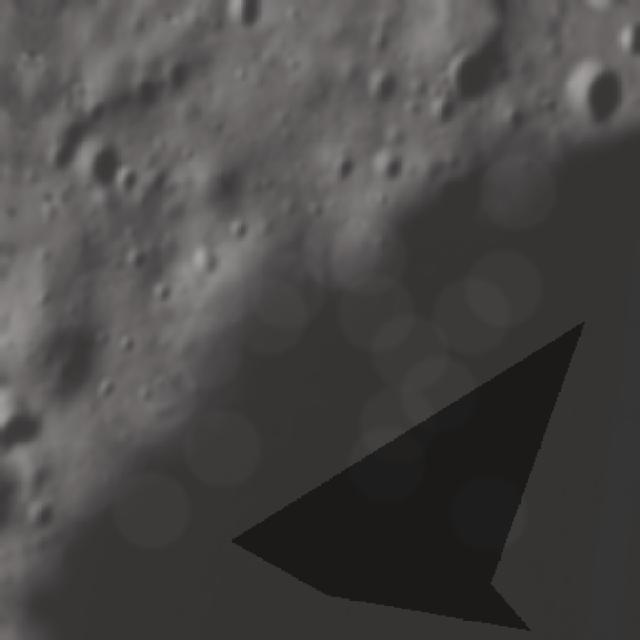crater: (441, 32, 522, 125), (562, 50, 636, 142), (0, 461, 48, 570), (0, 377, 51, 475), (208, 0, 287, 49), (67, 144, 124, 210), (359, 142, 412, 200), (354, 63, 401, 123)
